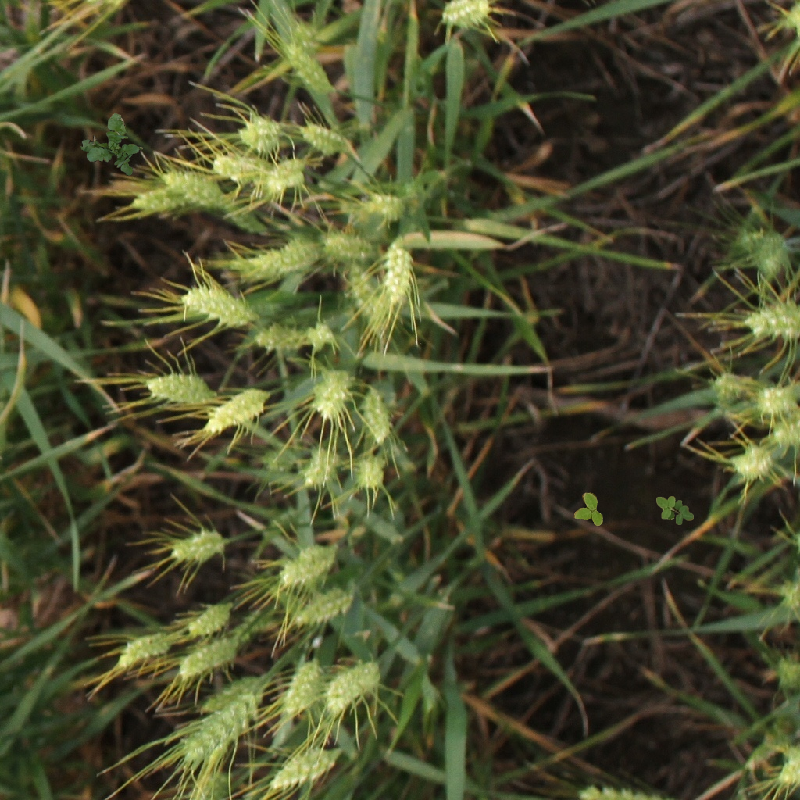spikelet: (179, 691, 261, 766), (241, 235, 318, 281), (180, 283, 255, 329), (268, 745, 336, 795), (322, 658, 381, 715), (343, 264, 391, 332), (203, 387, 268, 434), (281, 39, 333, 96), (161, 168, 225, 211), (279, 658, 324, 719), (278, 542, 337, 588), (177, 637, 238, 681), (292, 586, 354, 628), (380, 239, 416, 311), (144, 369, 213, 405), (115, 629, 177, 669), (308, 367, 353, 421), (743, 300, 799, 342), (358, 385, 394, 445), (748, 229, 790, 279), (319, 228, 375, 265), (210, 151, 267, 187), (169, 528, 224, 564), (128, 183, 186, 217), (299, 119, 349, 158), (236, 113, 284, 153), (253, 320, 309, 354), (575, 782, 687, 799), (262, 156, 306, 199), (299, 445, 340, 491), (730, 442, 774, 483), (357, 188, 407, 224), (186, 602, 232, 636), (440, 1, 492, 31), (351, 451, 388, 493), (708, 370, 746, 409), (753, 382, 794, 417), (259, 441, 301, 475), (181, 770, 230, 799), (304, 318, 338, 354), (776, 739, 799, 788), (771, 411, 799, 449), (773, 653, 799, 692), (778, 574, 799, 620), (781, 1, 800, 40)
weed: (80, 113, 143, 176), (569, 490, 604, 530), (656, 496, 694, 525)
